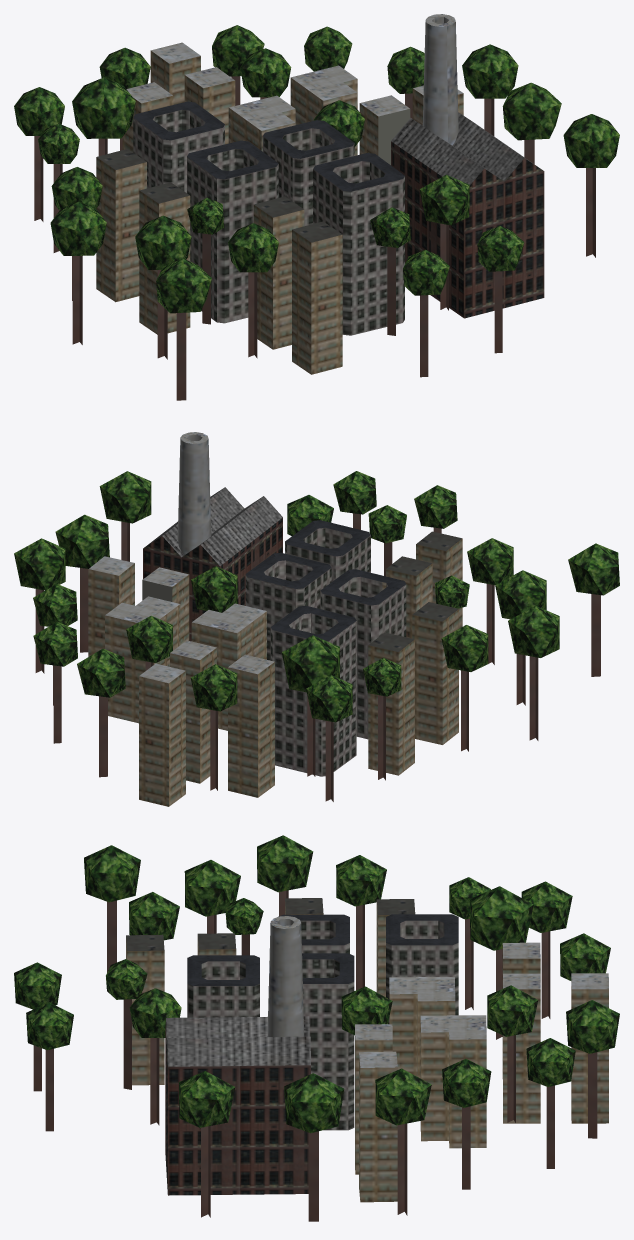
The model's file is city_modern_0.glb.
3 renders of one model, top to bottom at view 1: azimuth 30°, elevation 25°; view 2: azimuth 150°, elevation 25°; view 3: azimuth 270°, elevation 25°, orthographic. The views are drawn at different scales.
Visible parts, largest first — view 1: ModernCity_Tier1; view 2: ModernCity_Tier1; view 3: ModernCity_Tier1.
Boxes of the visible parts, x1,y1,x2,y2 form: ModernCity_Tier1: (14,14,619,400); ModernCity_Tier1: (14,432,619,806); ModernCity_Tier1: (14,835,619,1221).
Bounding box in the file's own units: 3.08 × 1.38 × 3.03.
1 material, 1 textured.
